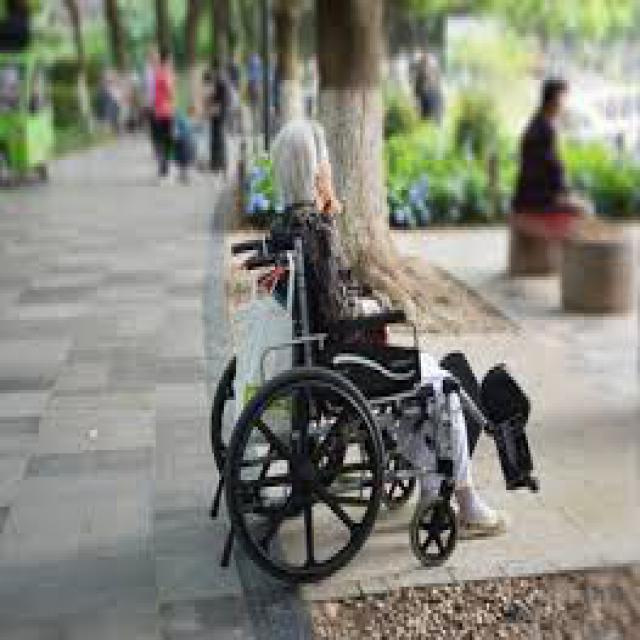wheelchairs: (200, 220, 540, 567)
